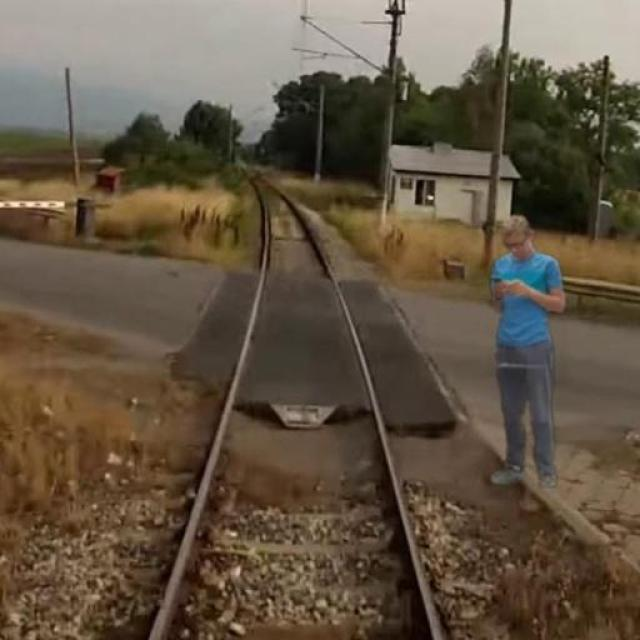people: (481, 212, 572, 493)
